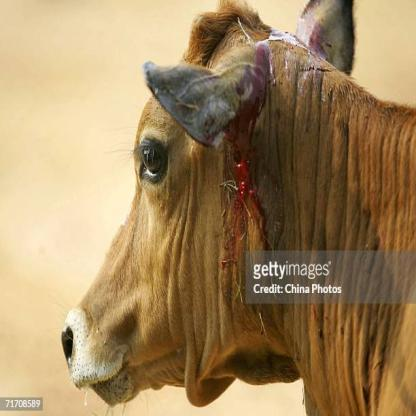cow: (41, 13, 416, 414)
injured: (209, 50, 292, 304)
